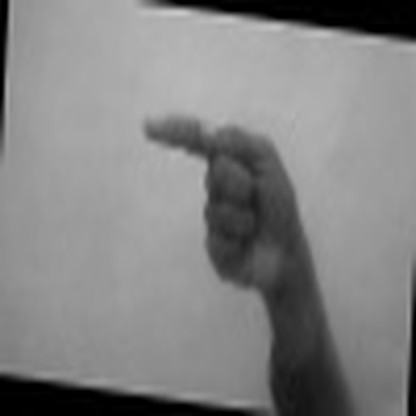g: (99, 109, 346, 289)
